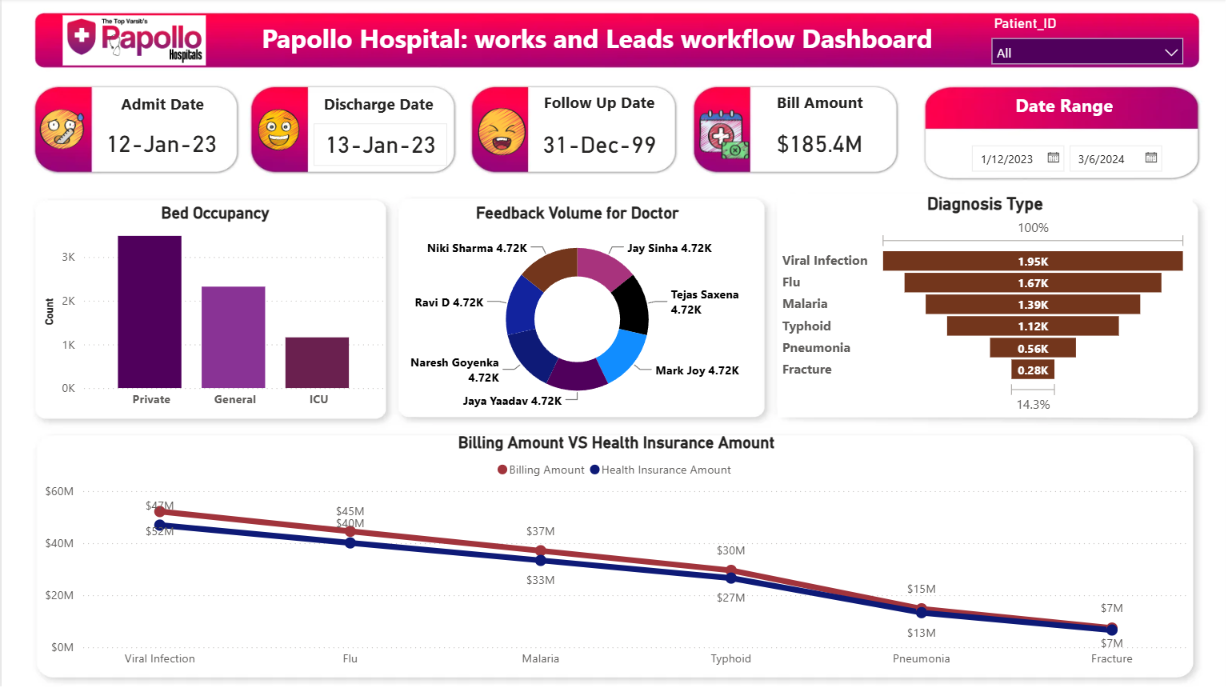

The dashboard page shown, as its layout file describes it:
{"tool":"powerbi","page":{"name":"Page 1","canvas":[1280,720],"ordinal":0},"visuals":[{"type":"image","box":[39.8,17.8,196.2,52.1],"z":0},{"type":"textbox","box":[236,17.4,782.6,52.3],"z":1000},{"type":"slicer","fields":{"Values":["Sheet1.Patient_ID"]},"box":[1018.6,12.8,219.8,61.6],"z":2000},{"type":"card","fields":{"Values":["Min(Sheet1.Admit_Date)"]},"box":[96.5,129.1,139.5,43],"z":3000},{"type":"card","fields":{"Values":["Min(Sheet1.Discharge_Date)"]},"box":[324.4,130.2,139.5,43],"z":4000},{"type":"textbox","box":[318.6,93,145.3,37.2],"z":5000},{"type":"textbox","box":[94.2,93,145.3,37.2],"z":6000},{"type":"image","box":[39.5,98.8,46.5,74.4],"z":7000},{"type":"image","box":[266.3,104.7,44.2,62.8],"z":8000},{"type":"card","fields":{"Values":["Min(Sheet1.Followup Date)"]},"box":[552.3,130.2,139.5,43],"z":9000},{"type":"image","box":[494.2,110.5,50,57],"z":10000},{"type":"textbox","box":[546.5,91.9,145.3,37.2],"z":11000},{"type":"image","box":[724.4,115.1,53.5,52.3],"z":12000},{"type":"textbox","box":[777.9,91.9,144.2,37.2],"z":13000},{"type":"card","fields":{"Values":["Sum(Sheet1.Billing Amount)"]},"box":[780.2,129.1,139.5,43],"z":14000},{"type":"textbox","box":[1029.1,93,151.2,37.2],"z":15000},{"type":"slicer","fields":{"Values":["Sheet1.Admit_Date"]},"box":[995.4,141.9,217.4,40.7],"z":16000},{"type":"columnChart","title":" Bed Occupancy ","fields":{"Category":["Sheet1.Bed_Occupancy"],"Y":["CountNonNull(Sheet1.Bed_Occupancy)"]},"box":[39.5,212.8,365.1,222.1],"z":17000},{"type":"donutChart","title":"Feedback Volume for Doctor","fields":{"Category":["Sheet1.Doctor"],"Y":["Sum(Sheet1.Feedback)"]},"box":[404.7,212.8,388.4,222.1],"z":18000},{"type":"funnel","title":" Diagnosis Type","fields":{"Category":["Sheet1.Diagnosis"],"Y":["CountNonNull(Sheet1.Diagnosis)"]},"box":[807,202.3,431.4,232.6],"z":19000},{"type":"lineChart","title":"Billing Amount VS Health Insurance Amount ","fields":{"Y":["Sum(Sheet1.Billing Amount)","Sum(Sheet1.Health Insurance Amount)"],"Category":["Sheet1.Diagnosis"]},"box":[39.5,451.2,1198.8,253.5],"z":20000}]}

Visuals, with their boxes in screenshot pixels (x1, y1, x2, y2), scaled from the page's 1280x720 canvas onto the 1226x687 screenshot:
image: 38/17/226/67
textbox: 226/17/976/67
slicer - Sheet1.Patient_ID: 976/12/1186/71
card - Min(Sheet1.Admit_Date): 92/123/226/164
card - Min(Sheet1.Discharge_Date): 311/124/444/165
textbox: 305/89/444/124
textbox: 90/89/229/124
image: 38/94/82/165
image: 255/100/297/160
card - Min(Sheet1.Followup Date): 529/124/663/165
image: 473/105/521/160
textbox: 523/88/663/123
image: 694/110/745/160
textbox: 745/88/883/123
card - Sum(Sheet1.Billing Amount): 747/123/881/164
textbox: 986/89/1131/124
slicer - Sheet1.Admit_Date: 953/135/1162/174
" Bed Occupancy " columnChart: 38/203/388/415
"Feedback Volume for Doctor" donutChart: 388/203/760/415
" Diagnosis Type" funnel: 773/193/1186/415
"Billing Amount VS Health Insurance Amount " lineChart: 38/431/1186/672
